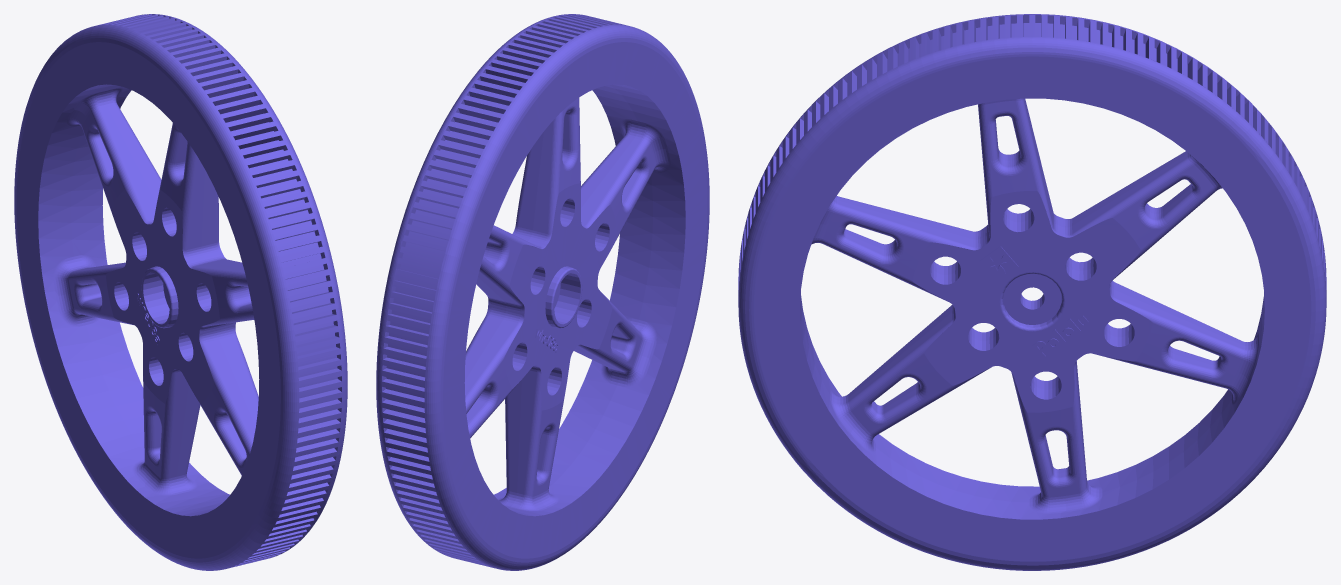
The model's file is ROSUGV_Wheel.dae.
3 renders of one model, left to right at view 1: azimuth 30°, elevation 25°; view 2: azimuth 150°, elevation 25°; view 3: azimuth 270°, elevation 25°, orthographic. The views are drawn at different scales.
Visible parts, largest first — view 1: Pololu_60mm_Wheel; view 2: Pololu_60mm_Wheel; view 3: Pololu_60mm_Wheel.
Boxes of the visible parts, <box> form: Pololu_60mm_Wheel: <box>14,14,347,570</box>; Pololu_60mm_Wheel: <box>376,14,709,570</box>; Pololu_60mm_Wheel: <box>738,14,1326,570</box>.
Bounding box in the file's own units: 0.4 × 3 × 3.
